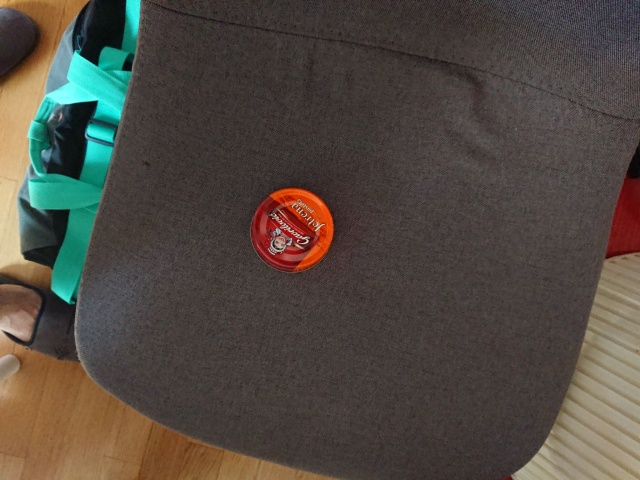Gavrilovic Pork Liver Pate 100g: (247, 185, 336, 275)
